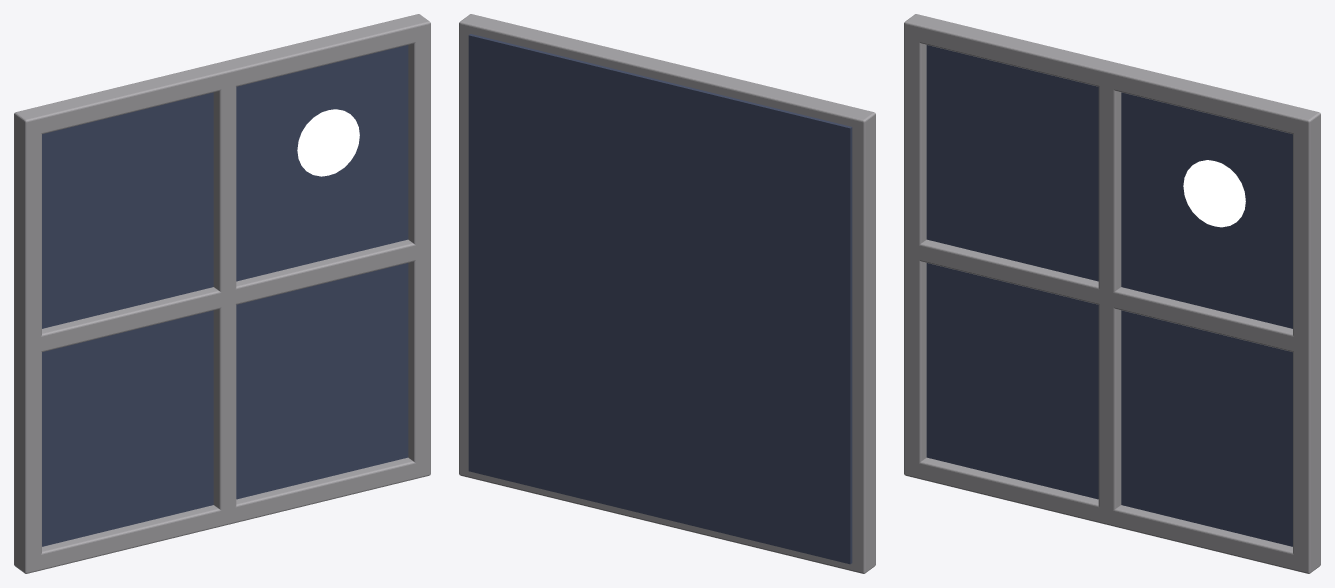
File: sketch_window.glb
3 renders of one model, left to right at view 1: azimuth 30°, elevation 25°; view 2: azimuth 150°, elevation 25°; view 3: azimuth 330°, elevation 25°, orthographic.
Visible parts, largest first — view 1: Cube, Cube.004, Cube.003, Cube.005, Cube.006, Cube.002, Cube.001, Sphere; view 2: Cube, Cube.004, Cube.003, Cube.006, Cube.001; view 3: Cube, Cube.006, Cube.003, Cube.005, Cube.004, Cube.002, Cube.001, Sphere.
Part boxes in pixels (x1,y1,x2,y2): Cube: (42,45,408,546); Cube.004: (14,109,41,573); Cube.003: (17,14,427,135); Cube.005: (210,61,236,525); Cube.006: (405,14,430,477); Cube.002: (29,239,427,353); Cube.001: (28,457,427,573); Sphere: (297,109,359,176); Cube: (468,34,852,564); Cube.004: (849,111,875,573); Cube.003: (462,14,872,136); Cube.006: (459,14,484,475); Cube.001: (462,460,861,573); Cube: (926,45,1292,546); Cube.006: (1293,109,1320,573); Cube.003: (907,14,1317,135); Cube.005: (1098,61,1124,524); Cube.004: (904,14,929,477); Cube.002: (907,239,1305,354); Cube.001: (907,457,1306,573); Sphere: (1183,160,1245,227).
Bounding box in the file's own units: 1.17 × 1.25 × 0.07.
